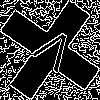V: (25, 25, 78, 82)
